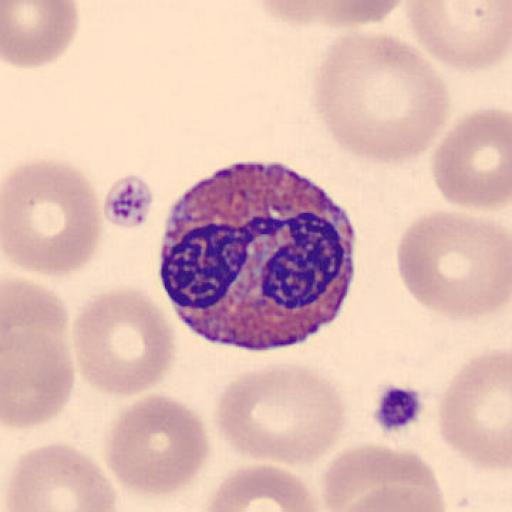Platelet: (370, 379, 428, 436), (101, 171, 156, 231)
RBC: (311, 30, 451, 166), (214, 360, 349, 466), (395, 207, 512, 322), (2, 157, 103, 279), (0, 271, 75, 430), (70, 286, 177, 397), (103, 392, 211, 499), (436, 345, 512, 468), (431, 105, 512, 210), (321, 443, 444, 512), (1, 440, 118, 512), (2, 274, 72, 390), (2, 326, 76, 430), (404, 1, 512, 71), (202, 464, 320, 512), (2, 0, 80, 69), (252, 0, 406, 30), (337, 472, 447, 512), (324, 484, 445, 512), (303, 0, 408, 28), (246, 0, 358, 24)
WBC: (157, 159, 359, 352)
